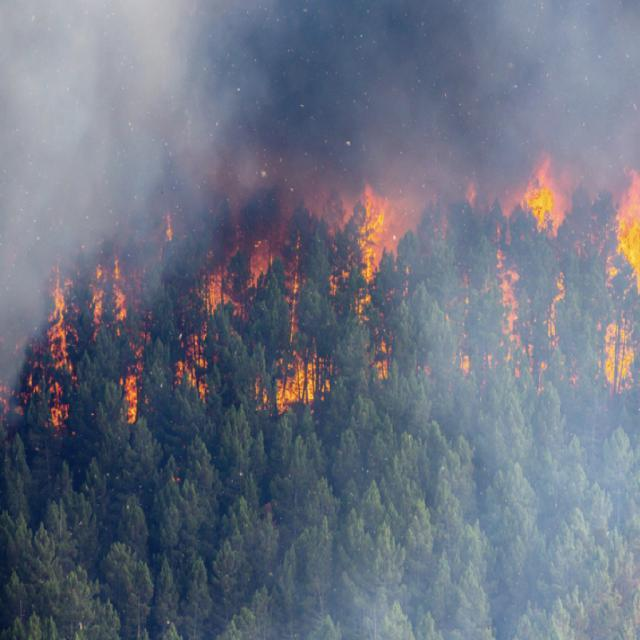Fire: (349, 168, 640, 434), (164, 200, 342, 430), (89, 237, 158, 446), (32, 248, 82, 444)
Smoke: (0, 0, 638, 209), (219, 0, 640, 263)
